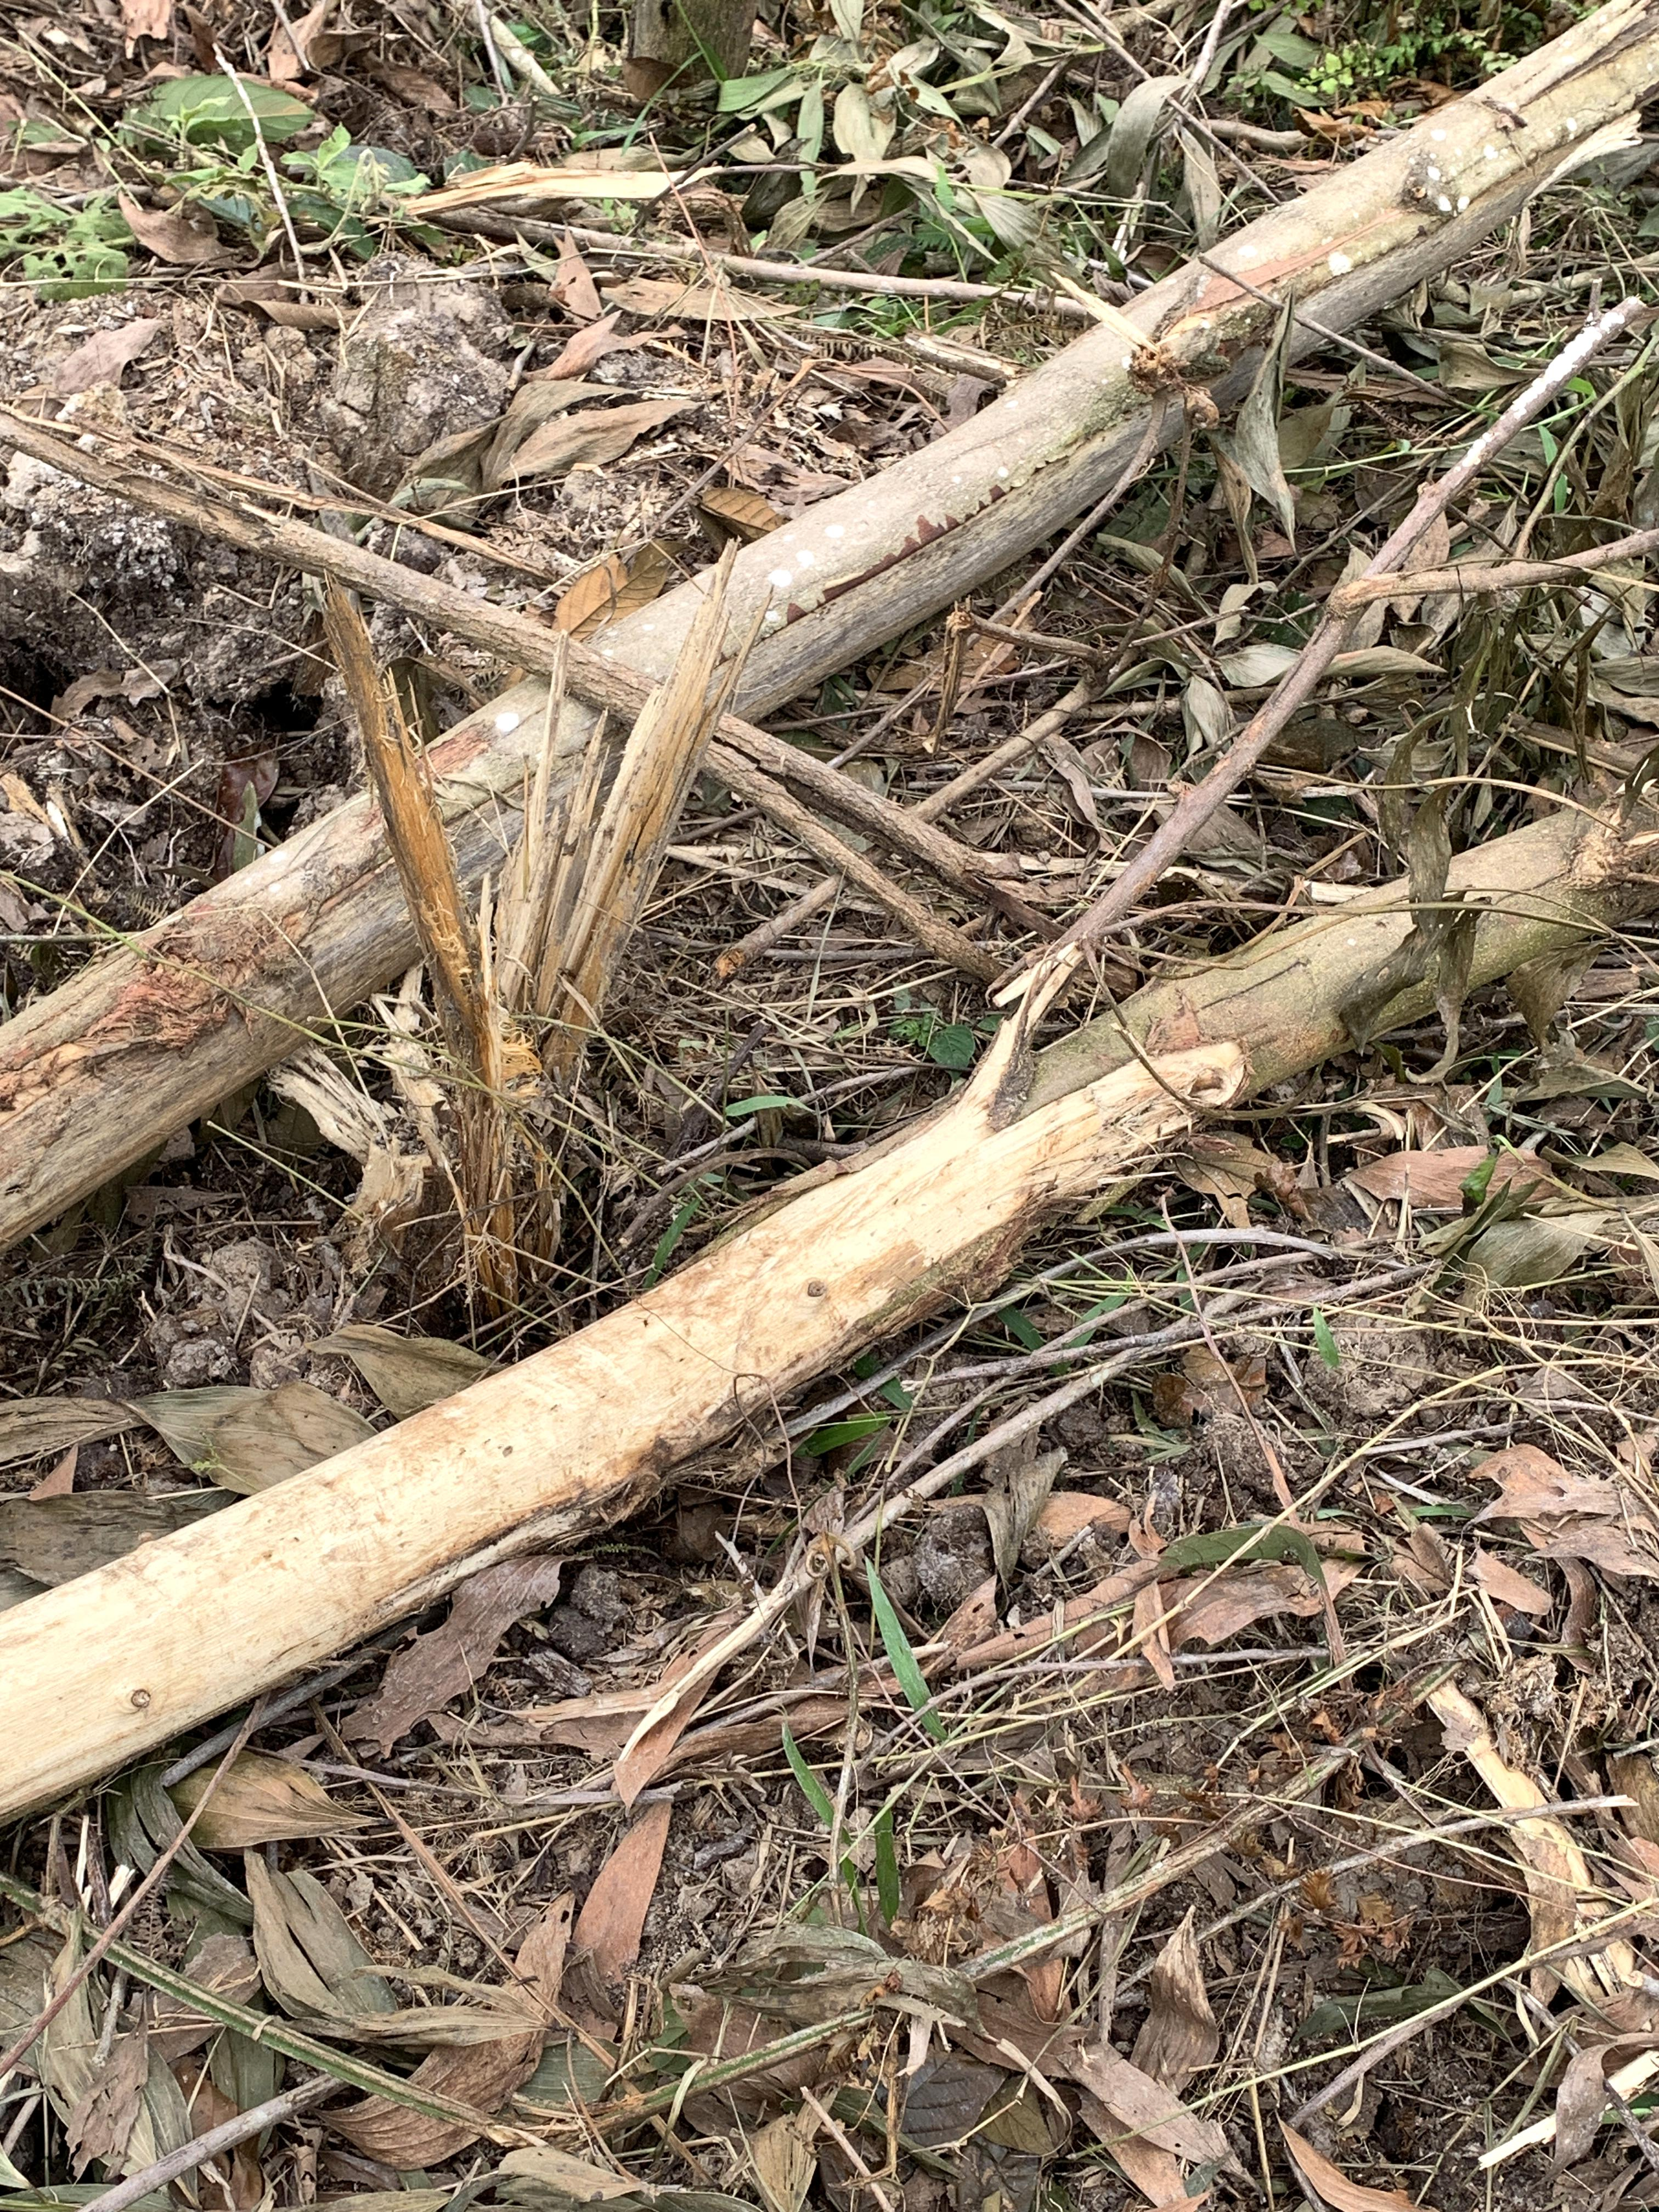Mammals Attack: (12, 0, 1659, 1247), (7, 1010, 1249, 1811)
